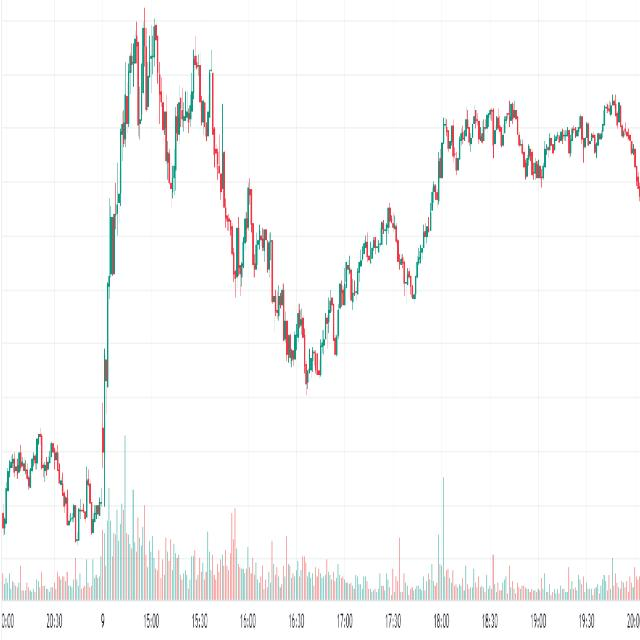Channel-up: (298, 168, 415, 412)
Inverse-Head-Shoulders: (154, 18, 199, 208)
